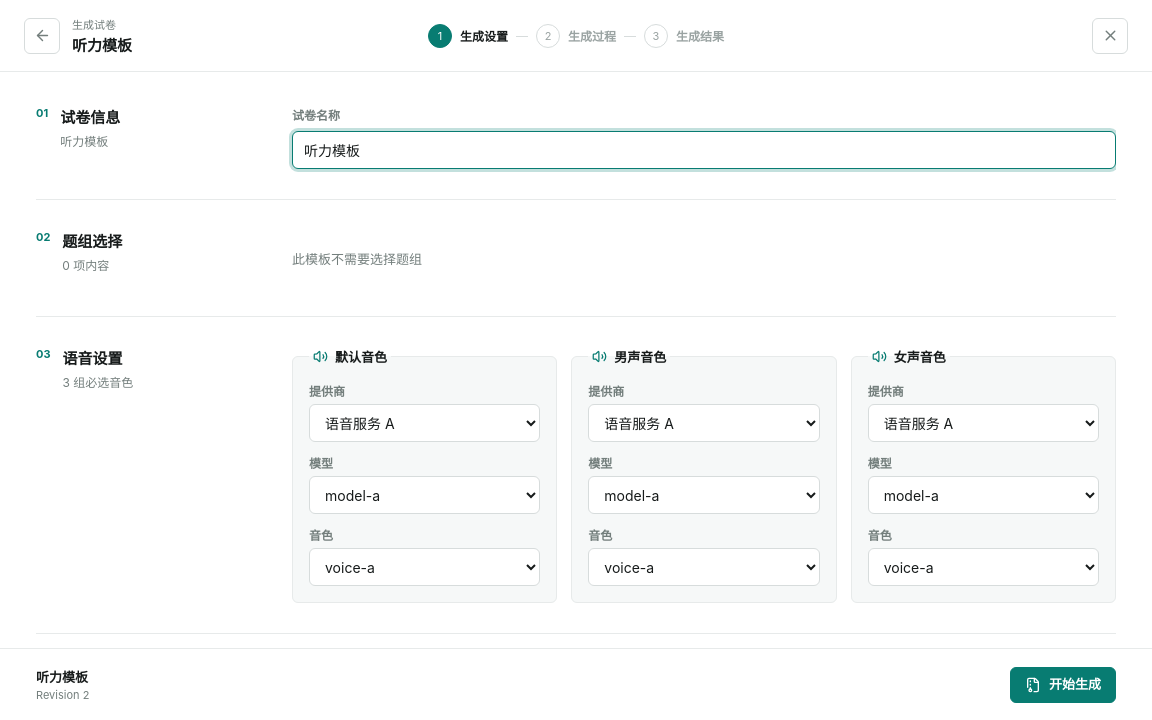
TemplateExamGenerationPage › 尚未保存生成结果时关闭需要确认
The width and height of the screenshot is (1152, 720).
Click the button "开始生成" at {"x": 1063, "y": 684}, box [1010, 666, 1116, 702]
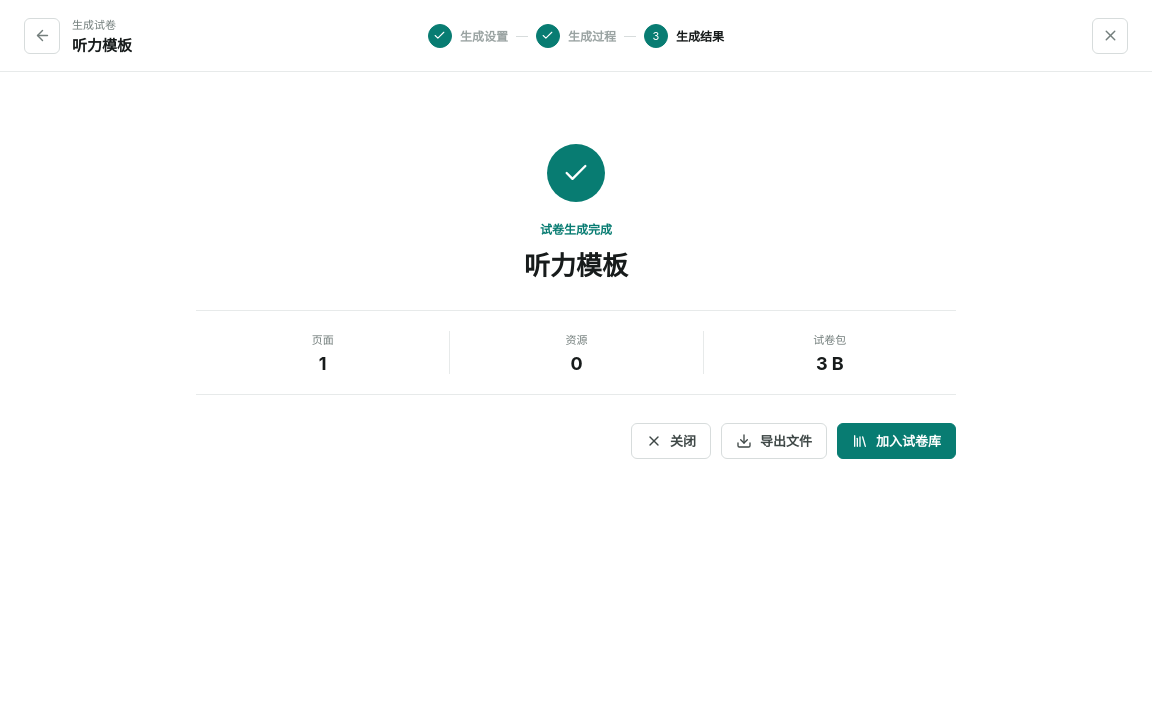
Check: the text "试卷生成完成" is shown, box [540, 220, 612, 237]
Click the button "关闭" at {"x": 671, "y": 441}, box [631, 423, 711, 459]
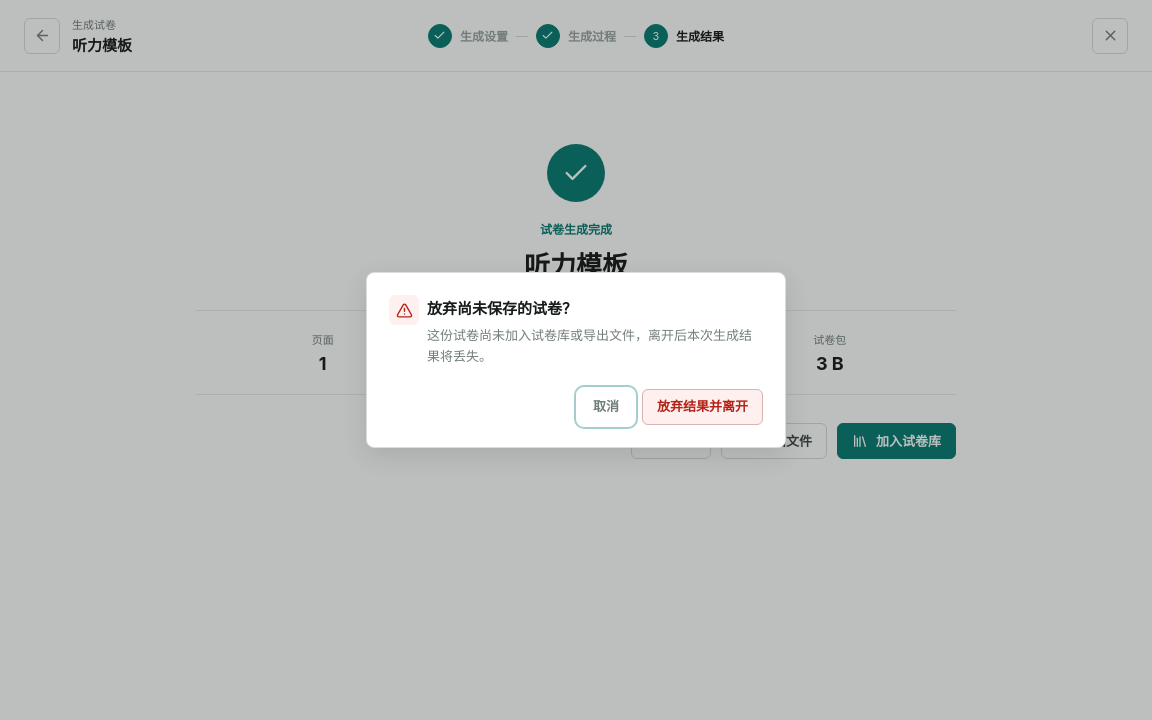
Check: the heading "放弃尚未保存的试卷？" is shown, box [427, 299, 577, 318]
Check: the button "放弃结果并离开" is shown, box [642, 389, 763, 425]
